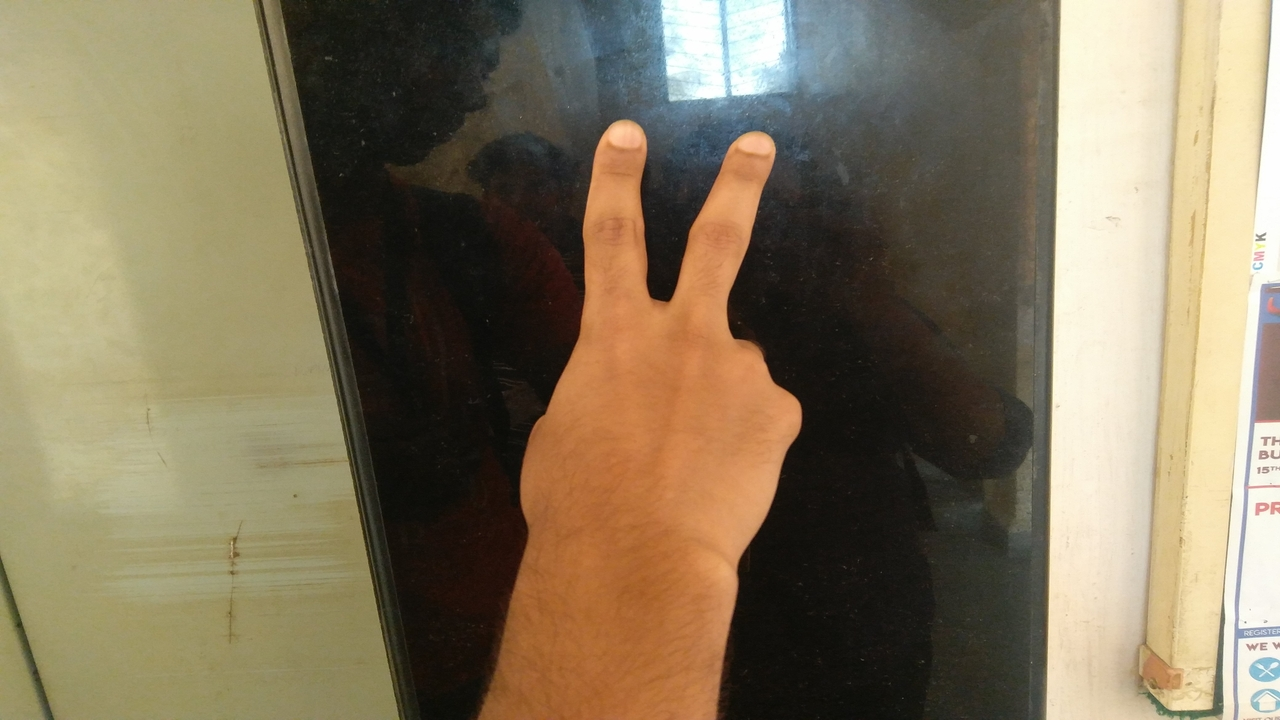fingertip: (716, 122, 780, 170), (588, 116, 650, 164)
